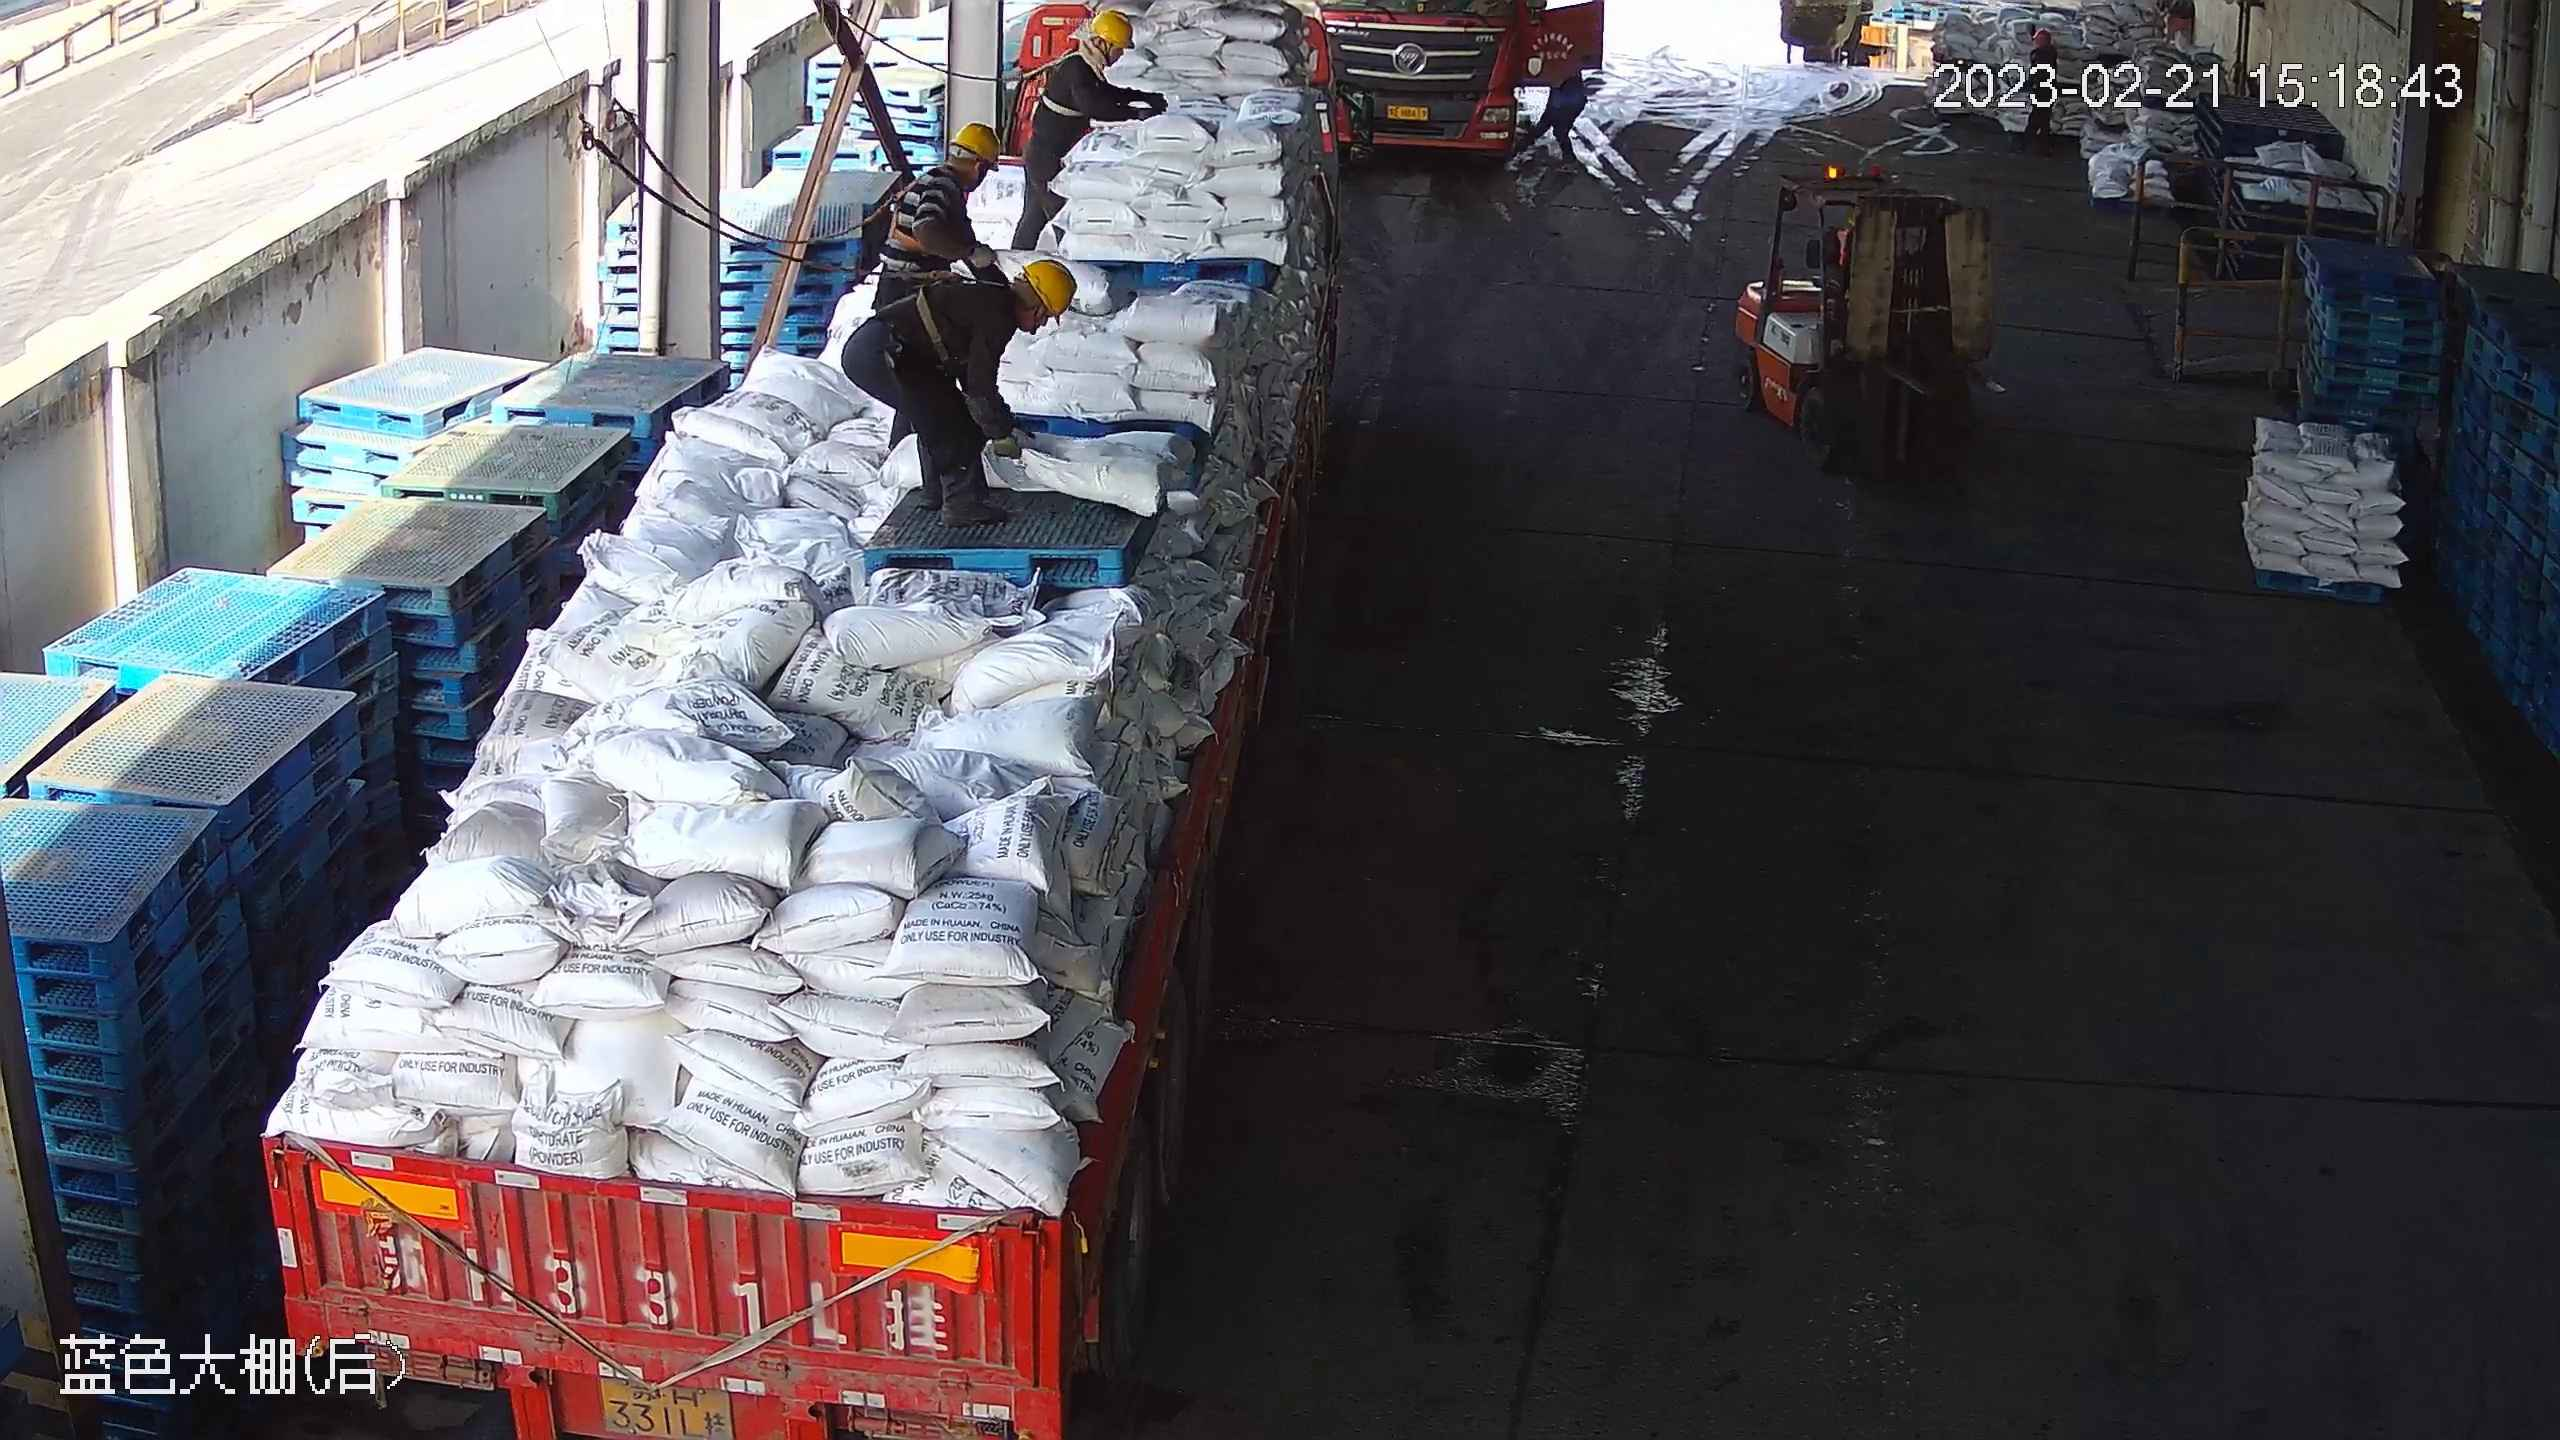belt: (912, 271, 1008, 366), (883, 167, 942, 254), (1032, 49, 1084, 118)
head: (955, 257, 1079, 354), (1047, 8, 1137, 86), (914, 122, 1000, 199)
helmet: (1020, 258, 1078, 327), (947, 122, 1000, 171), (1088, 9, 1136, 50)
people: (840, 257, 1079, 529), (1011, 9, 1169, 250), (872, 122, 999, 312)
truck: (259, 6, 1375, 1440), (1318, 1, 1603, 160)
